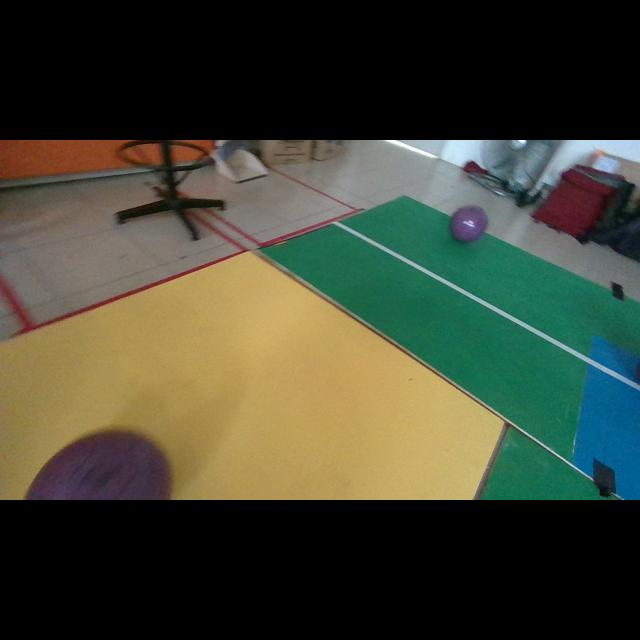P: (450, 205, 489, 242)
